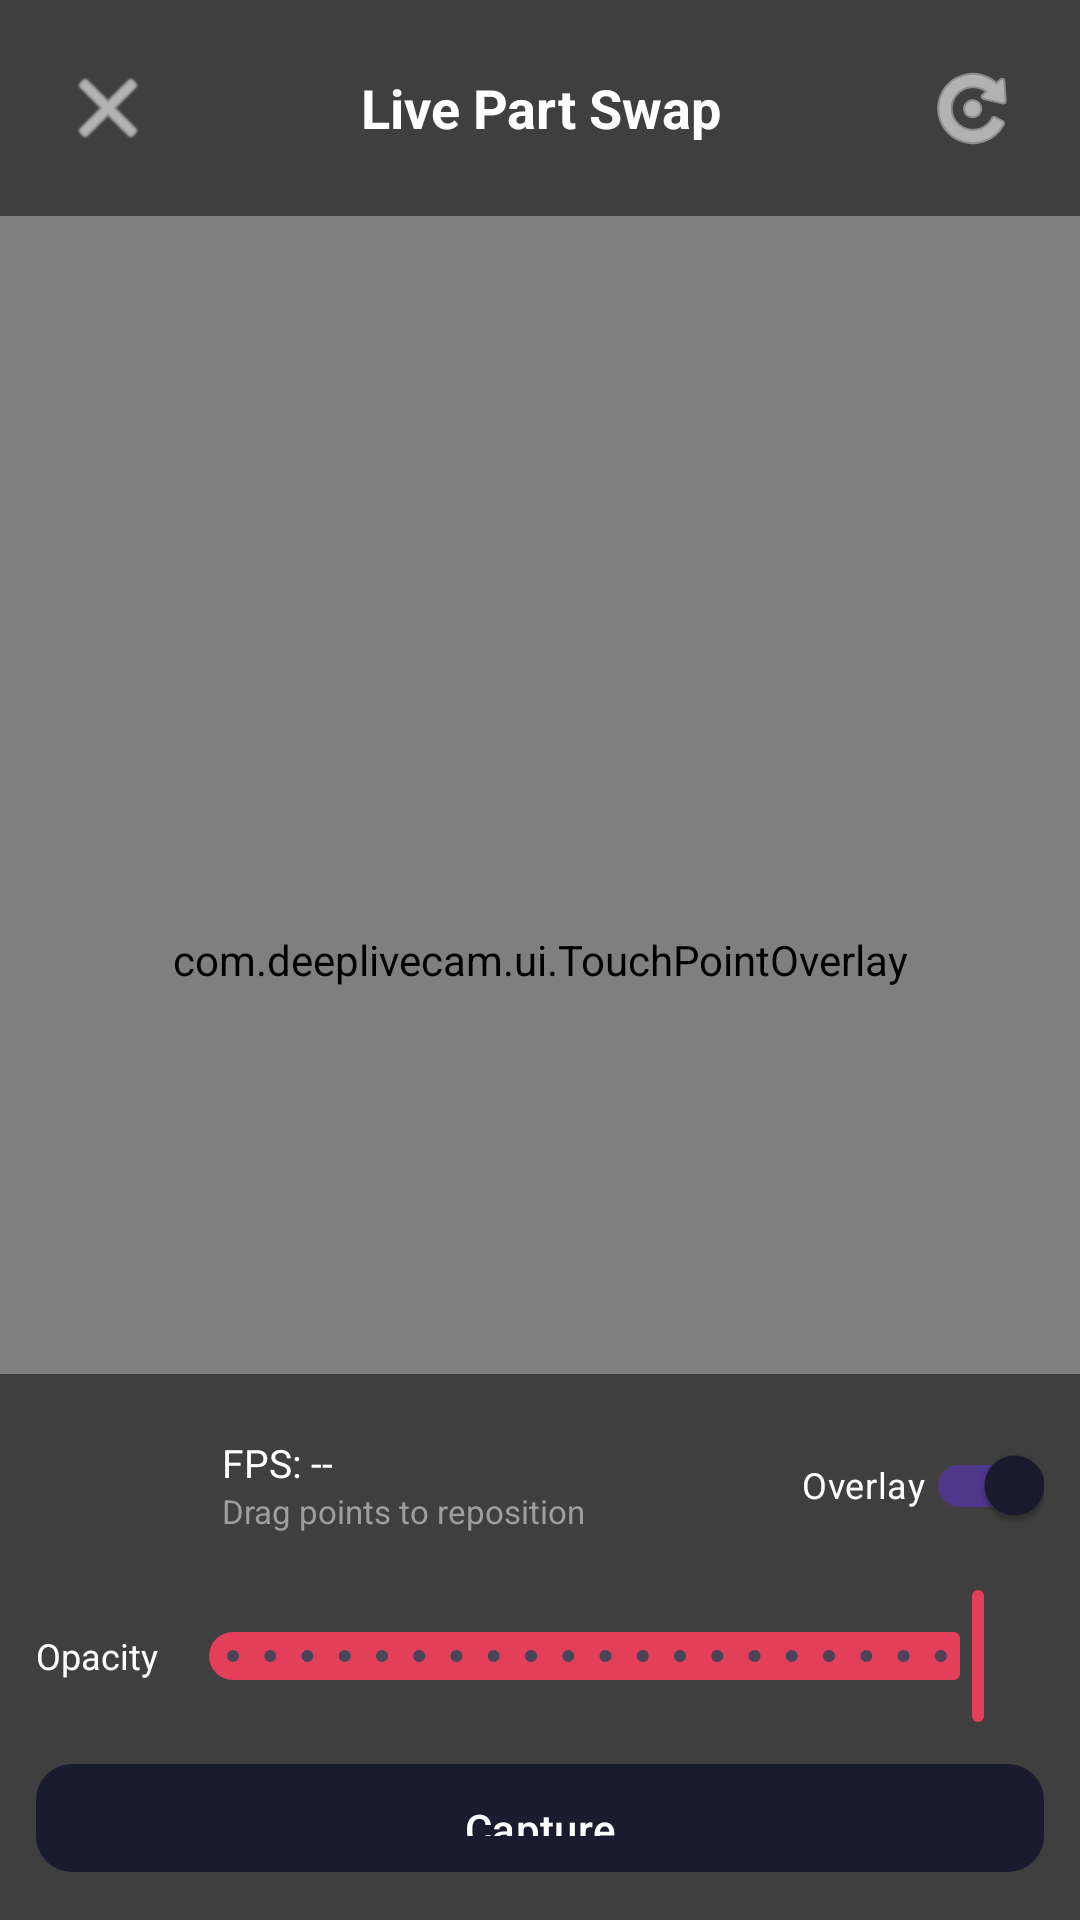

Named icons in this screenshot (1080px x 1920px) and their centers, [x,y]:
Back: [108,108]
Switch Camera: [972,108]
